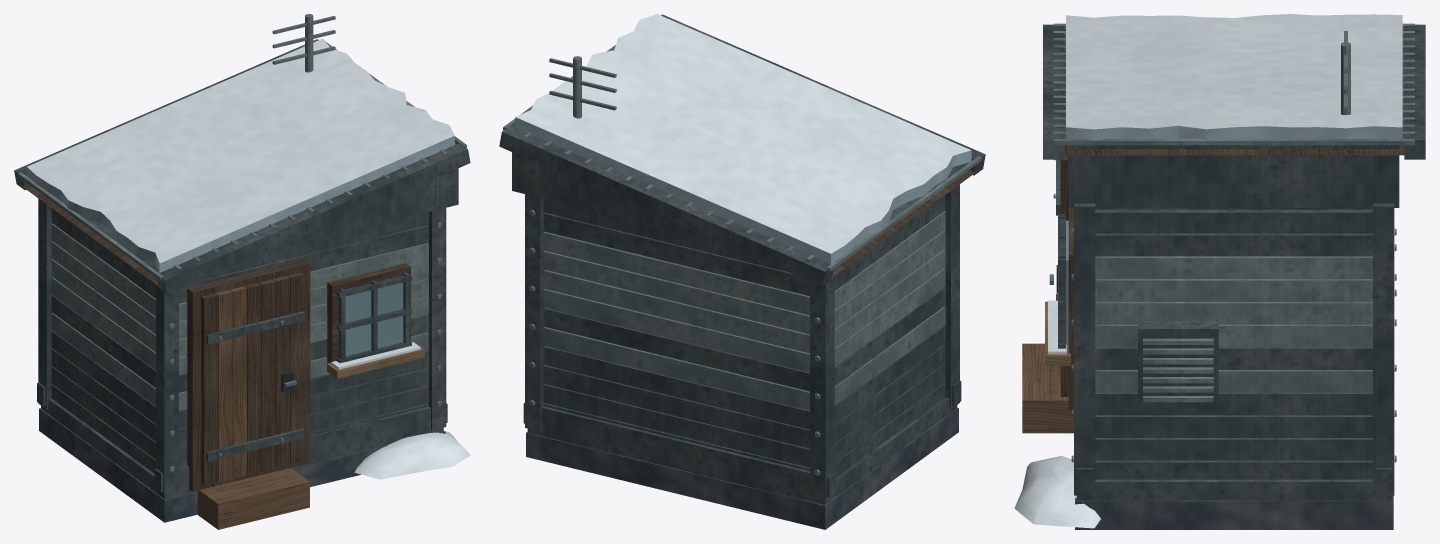
File: 23_Instrument_Hut.obj
3 views of the same model, side by side, from view 1: azimuth 30°, elevation 25°; view 2: azimuth 150°, elevation 25°; view 3: azimuth 270°, elevation 25° (orthographic). The views are drawn at different scales.
Visible parts, largest first — view 1: 23_Instrument_Hut; view 2: 23_Instrument_Hut; view 3: 23_Instrument_Hut.
Boxes of the visible parts, bbox=[...] form: 23_Instrument_Hut: bbox=[14, 14, 470, 529]; 23_Instrument_Hut: bbox=[499, 14, 985, 529]; 23_Instrument_Hut: bbox=[1014, 14, 1425, 529].
Size of the model in its own units: 2.76 by 3.14 by 2.5.
Materials: 10 (10 with a texture image).
